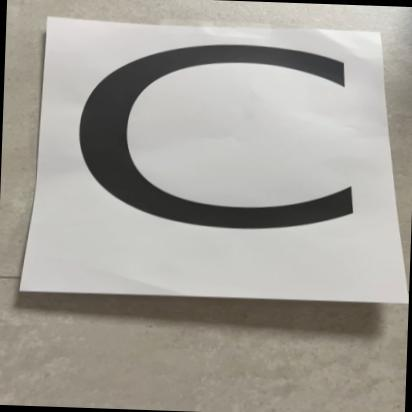seat: (34, 18, 395, 298)
